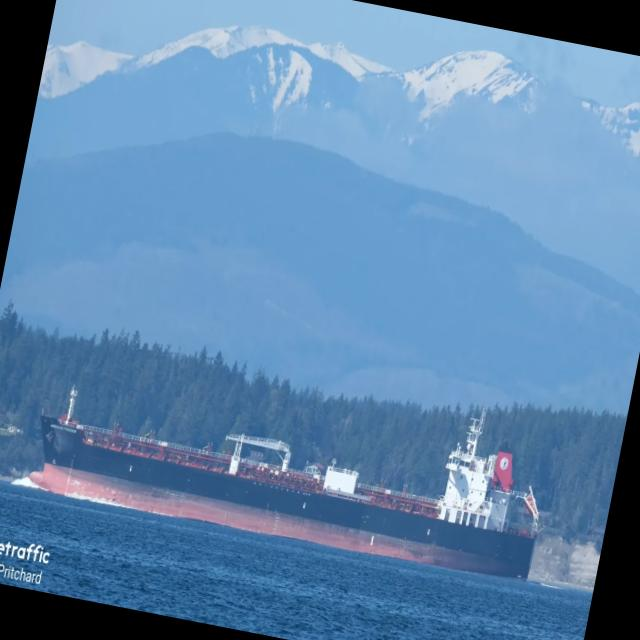Tanker: (29, 390, 539, 578)
